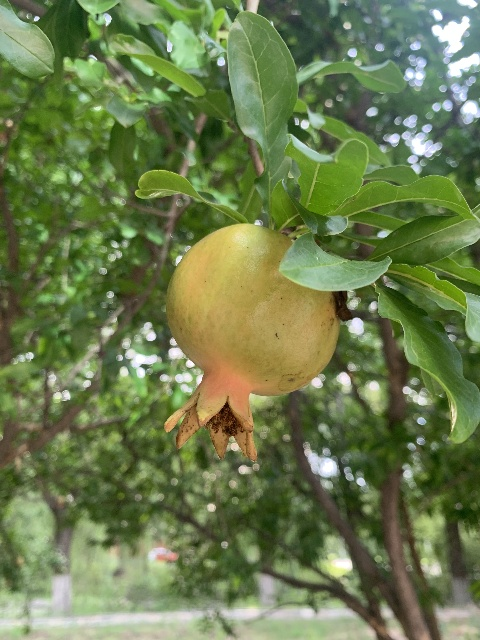mid-growth: (161, 223, 340, 463)
